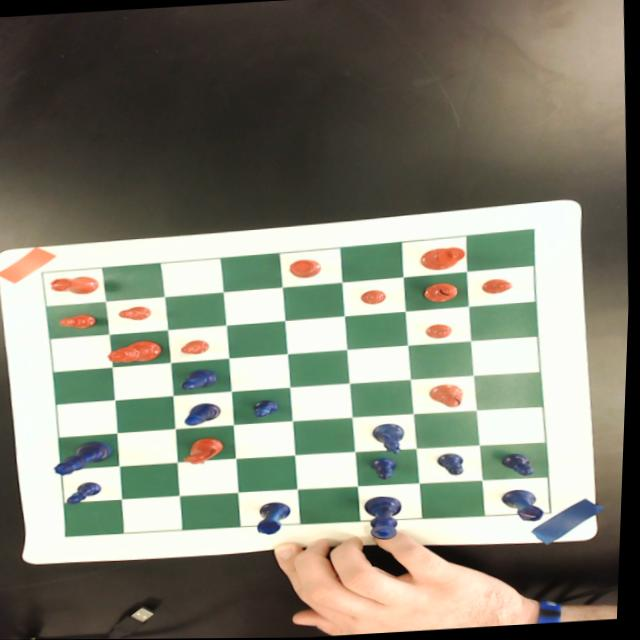B: (187, 402, 225, 426), (182, 368, 223, 390)
K: (366, 495, 408, 541)
N: (374, 422, 412, 457)
P: (68, 480, 106, 506), (503, 452, 539, 478), (372, 457, 402, 481), (439, 453, 469, 476), (254, 398, 284, 418)
Q: (55, 439, 118, 475)
R: (500, 489, 548, 524), (258, 501, 295, 535)
b: (432, 382, 468, 408), (425, 281, 462, 303)
k: (421, 247, 468, 271)
n: (184, 436, 229, 465)
p: (482, 277, 516, 296), (61, 313, 100, 329), (119, 304, 154, 321), (182, 338, 213, 355), (361, 288, 390, 305), (426, 323, 456, 339)
q: (109, 338, 166, 364)
r: (51, 274, 102, 297), (290, 258, 323, 278)
